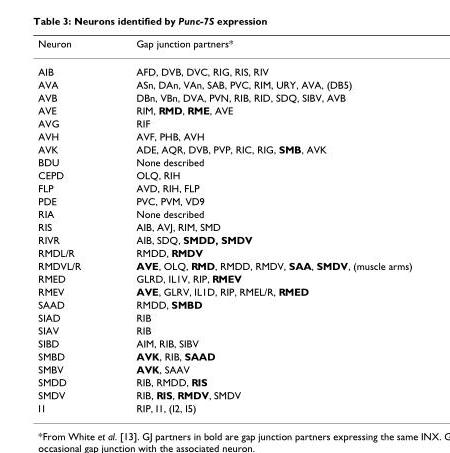table: (37, 37, 411, 413)
table column: (107, 37, 411, 413), (37, 37, 107, 413)
table column header: (37, 37, 411, 57)
table row: (37, 37, 411, 57), (37, 57, 411, 77), (37, 77, 411, 90), (37, 90, 411, 103), (37, 103, 411, 116), (37, 116, 411, 129), (37, 129, 411, 142), (37, 142, 411, 155), (37, 155, 411, 168), (37, 168, 411, 181), (37, 181, 411, 194), (37, 194, 411, 207), (37, 207, 411, 220), (37, 232, 411, 245), (37, 245, 411, 258), (37, 258, 411, 271), (37, 271, 411, 284), (37, 284, 411, 297), (37, 297, 411, 310), (37, 310, 411, 323), (37, 323, 411, 336), (37, 336, 411, 349), (37, 349, 411, 362), (37, 362, 411, 375), (37, 375, 411, 388), (37, 388, 411, 401), (37, 220, 411, 232), (37, 401, 411, 413)
